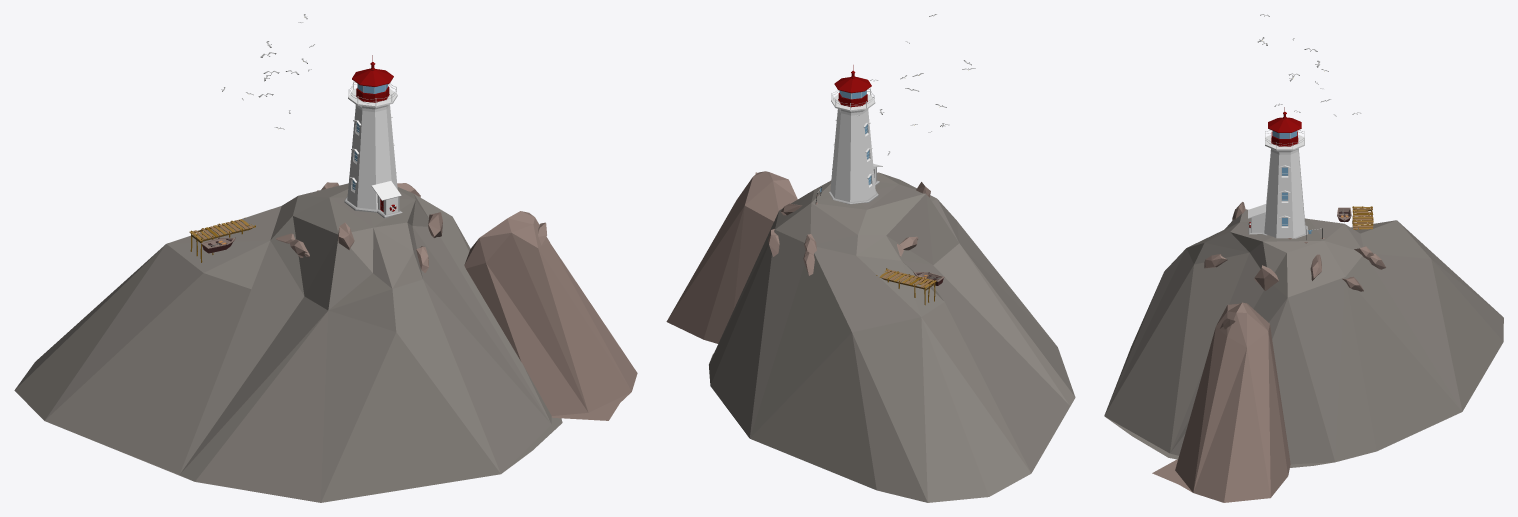
The model's file is lighthouse.glb.
3 views of the same model, side by side, from view 1: azimuth 30°, elevation 25°; view 2: azimuth 150°, elevation 25°; view 3: azimuth 270°, elevation 25° (orthographic). The views are drawn at different scales.
Visible parts, largest first — view 1: ambient, lighthouse, pier; view 2: ambient, lighthouse, pier; view 3: ambient, lighthouse, pier.
Boxes of the visible parts, <box> form: ambient: <box>14,182,637,502</box>; lighthouse: <box>344,55,402,218</box>; pier: <box>189,217,255,262</box>; ambient: <box>666,171,1075,502</box>; lighthouse: <box>815,65,882,204</box>; pier: <box>876,268,936,305</box>; ambient: <box>1104,202,1503,502</box>; lighthouse: <box>1248,107,1322,239</box>; pier: <box>1352,206,1373,229</box>.
Size of the model in its own units: 1.41 by 1.13 by 1.15.
